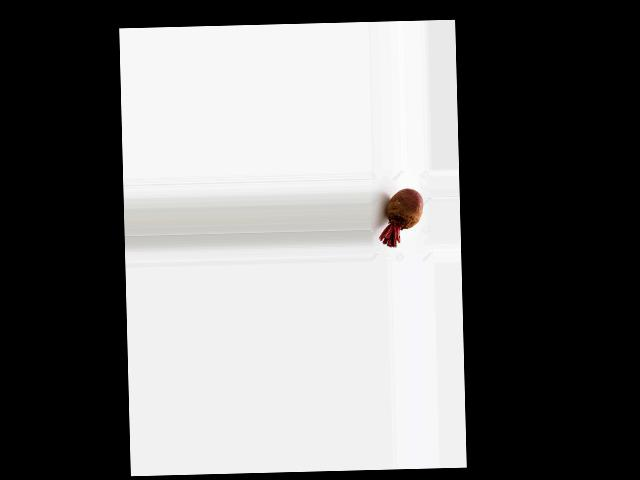beet: (377, 187, 424, 247)
